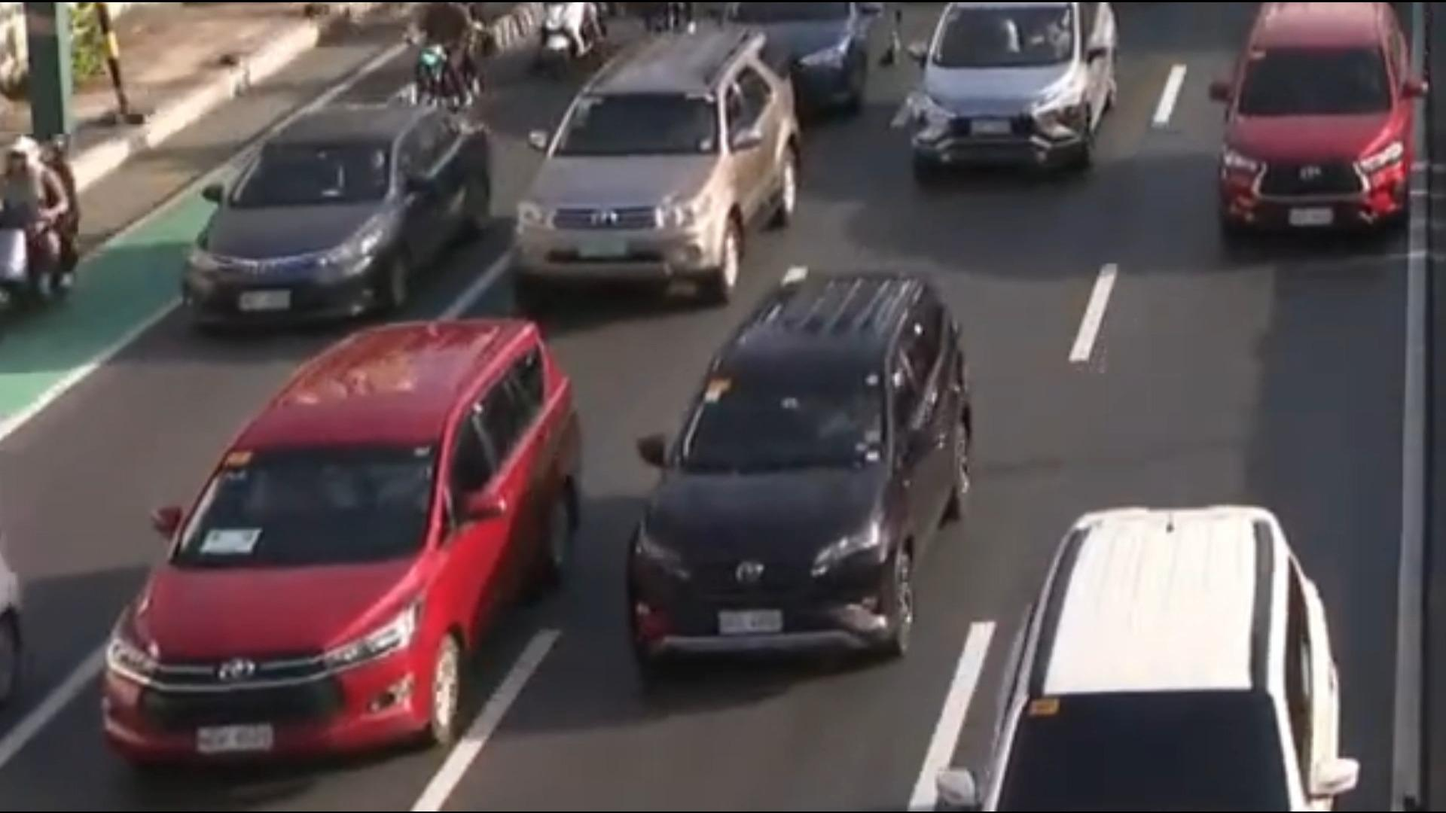Motorcycle: (0, 125, 123, 325), (515, 0, 622, 115), (415, 0, 490, 119)
SUV: (70, 300, 618, 811), (623, 241, 1043, 689), (915, 469, 1430, 813), (500, 21, 833, 321), (1187, 0, 1446, 256), (885, 0, 1150, 211)
Sedan: (175, 71, 496, 341)
